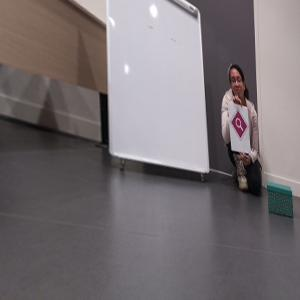big: (106, 1, 210, 179)
small: (265, 181, 295, 217)
